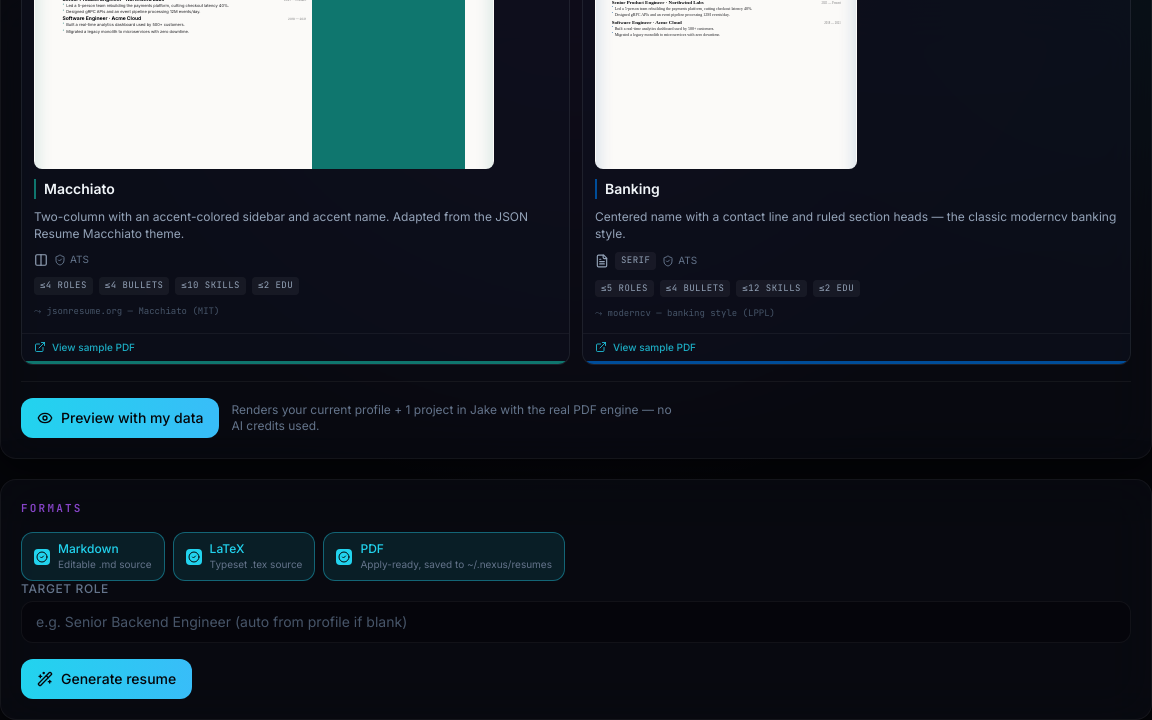
ImproveTab › renders the fit report when the backend returns one
(page scrolled)
Click the button "Generate resume": point(107, 679) [21,659,192,699]
(page scrolled)
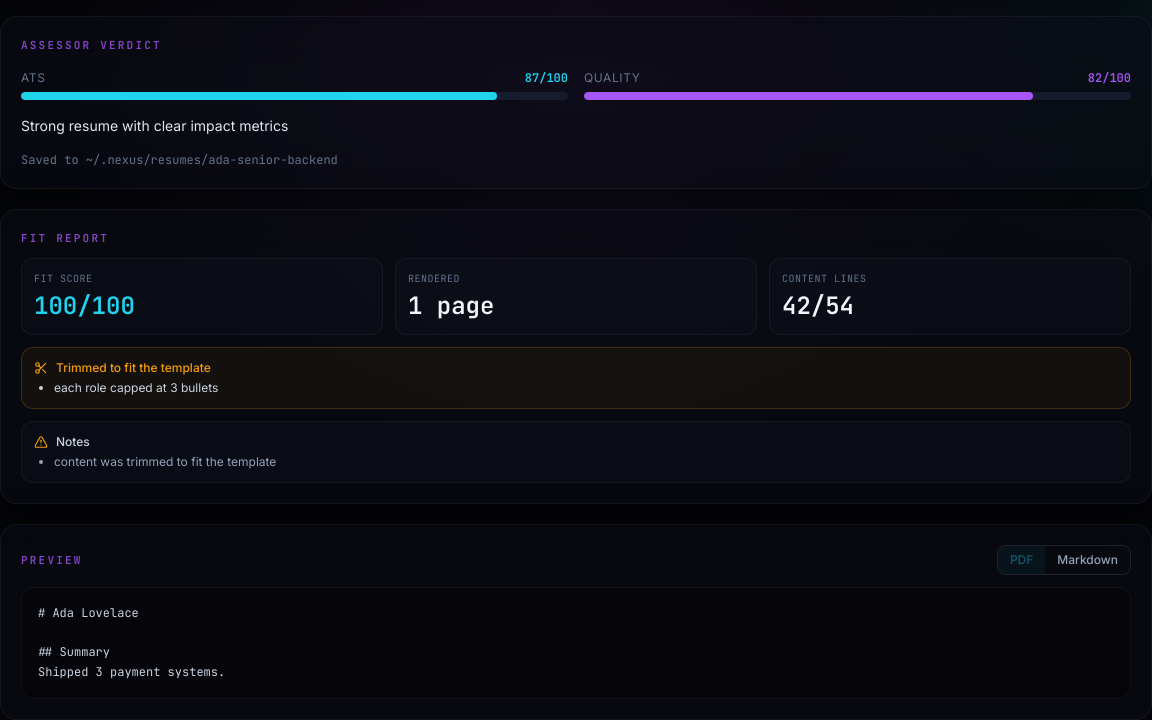
Now the heading "Fit report" is shown, box [21,230,109,246]
Now the text "100/100" is shown, box [34,290,135,321]
Now the text "Trimmed to fit the template" is shown, box [34,360,211,375]
